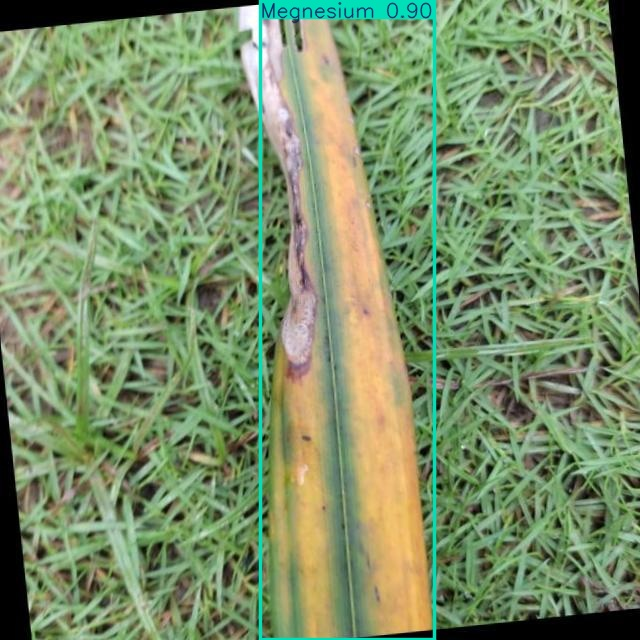Megnesium: (261, 0, 435, 639)
